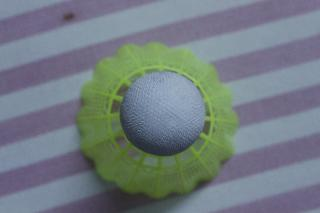shuttlecock: (75, 42, 238, 197)
